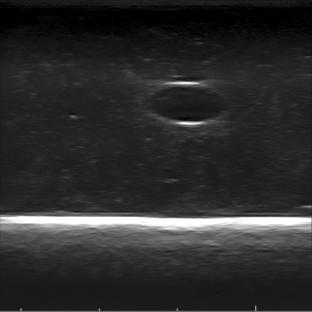vessel: (147, 81, 228, 128)
